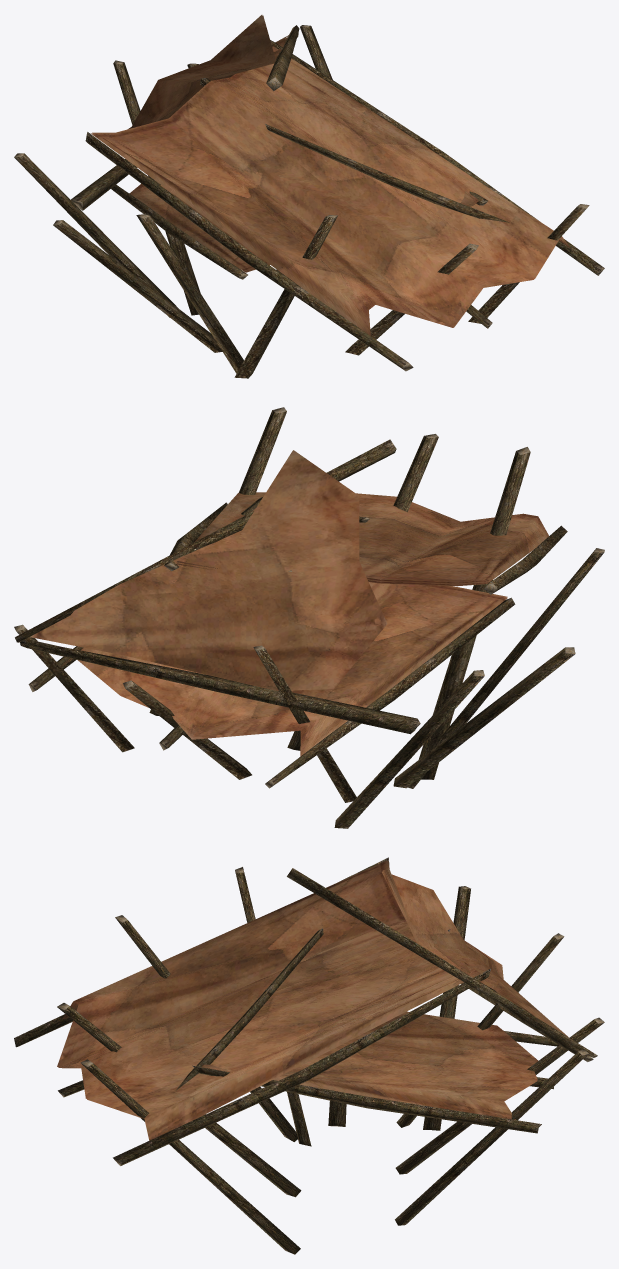
File: poi_all_lair_wooden_destroyed_l1.fbx
The picture shows the model from 3 angles, top to bottom: view 1: azimuth 30°, elevation 25°; view 2: azimuth 150°, elevation 25°; view 3: azimuth 270°, elevation 25°; orthographic projection. The views are drawn at different scales.
Parts seen in each view (by area): view 1: mesh_node; view 2: mesh_node; view 3: mesh_node.
Boxes of the visible parts, bbox=[...] form: mesh_node: bbox=[14, 15, 604, 378]; mesh_node: bbox=[14, 407, 604, 828]; mesh_node: bbox=[14, 857, 604, 1254].
Bounding box in the file's own units: 8.49 × 5.88 × 10.27.
